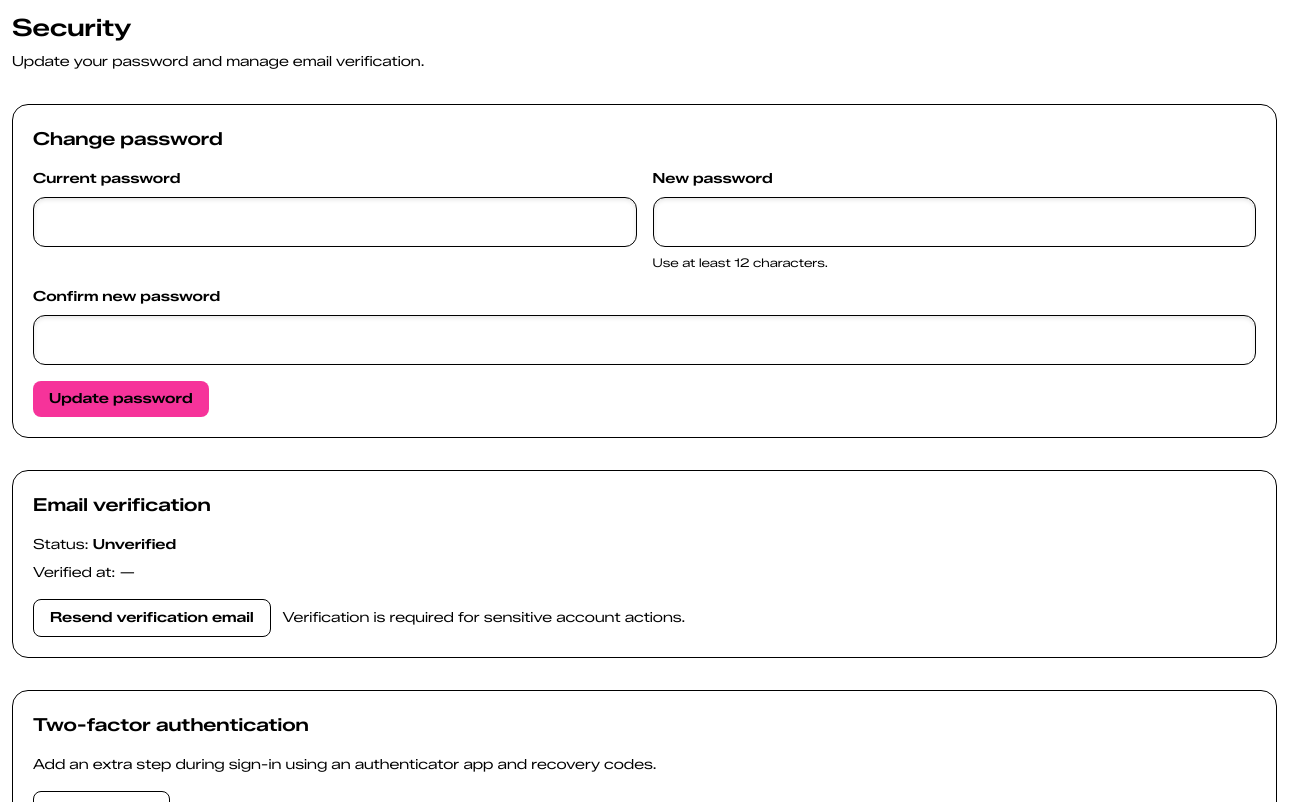
AccountSecurityPage › submits password change on happy path
Type "old-password" into the password field labelled "Current password" at (335, 222), box 33,197 -> 636,247
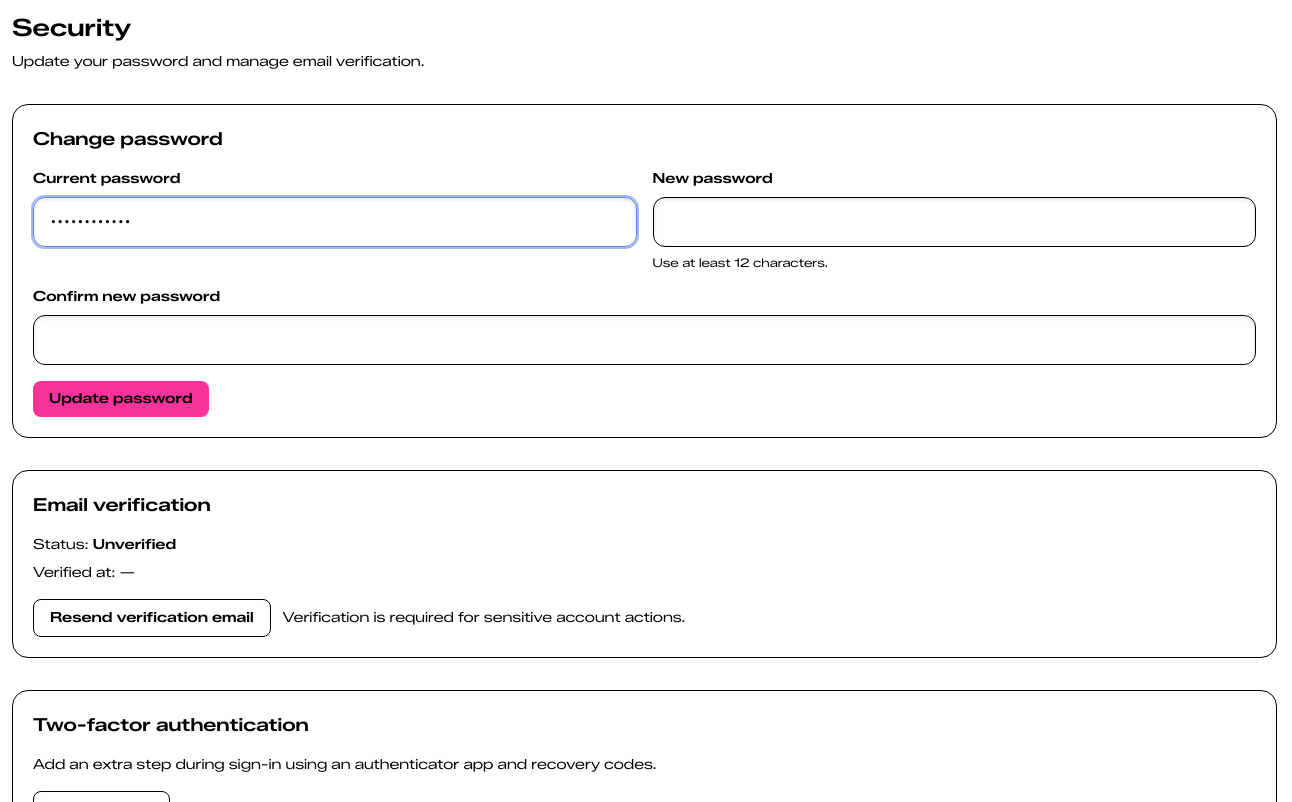
Type "new-password-1234" into the password field labelled "New password" at (954, 222), box 652,197 -> 1256,247
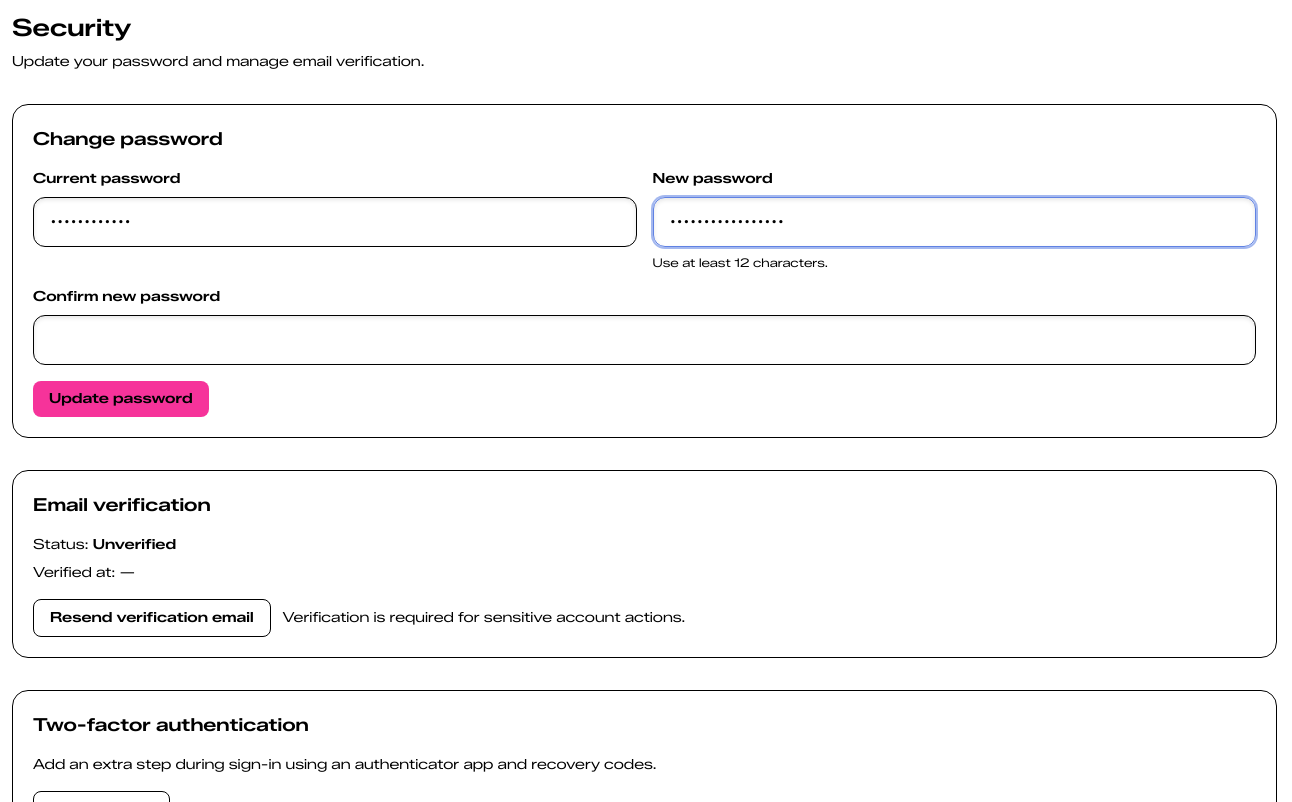
Type "new-password-1234" into the password field labelled "Confirm new password" at (644, 340), box 33,315 -> 1256,365
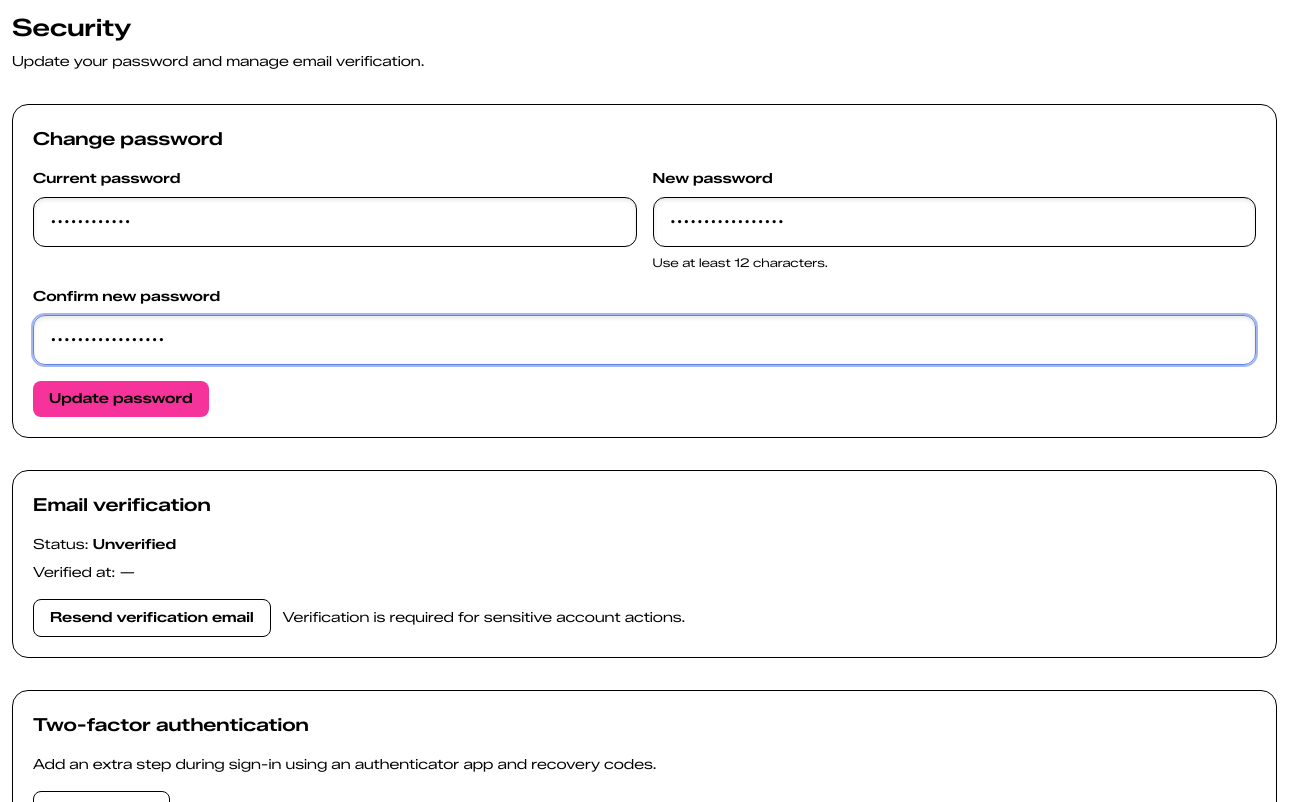
Click the button "Update password" at (121, 399), box 33,381 -> 208,417
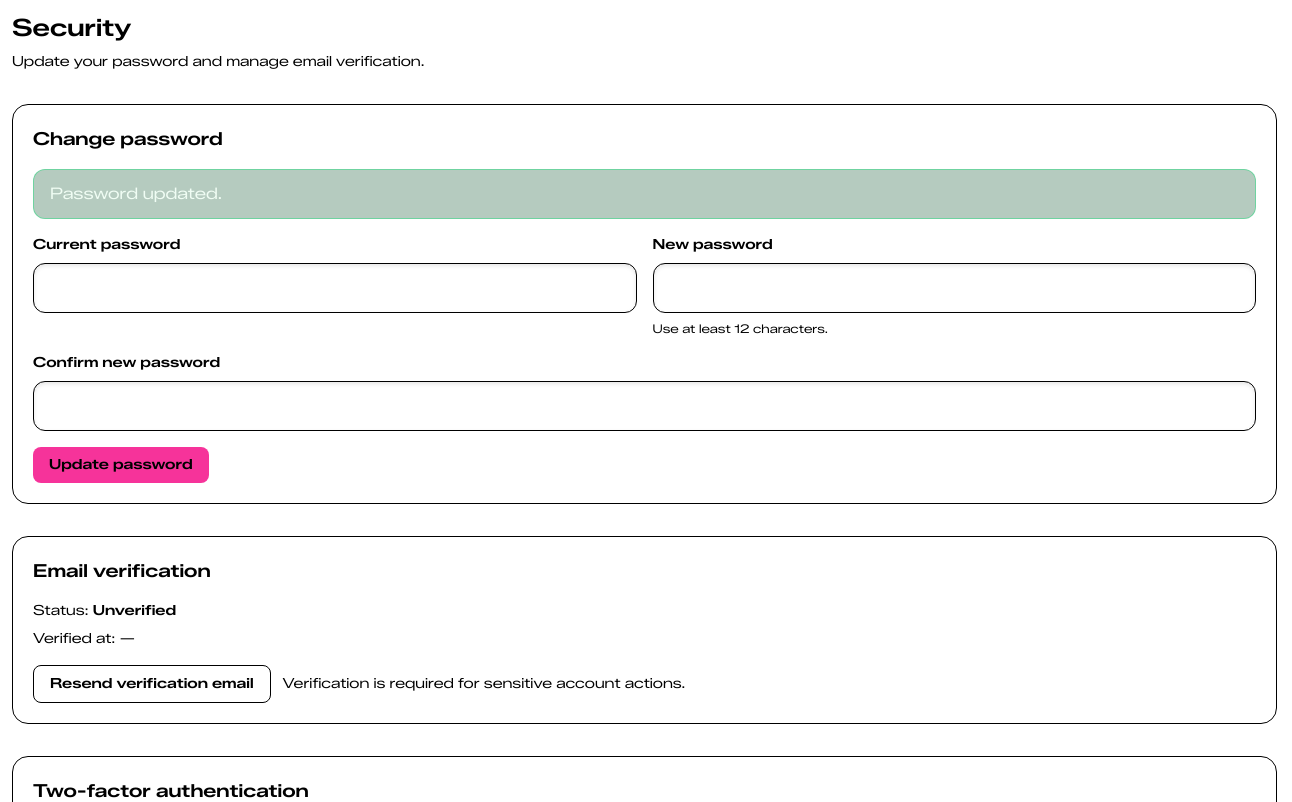
Now the text "Password updated." is shown, box 33,169 -> 1256,219
